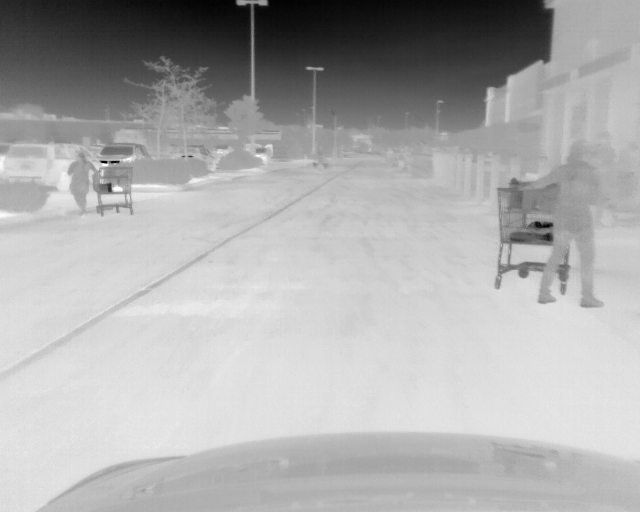car: (1, 141, 100, 191), (98, 141, 150, 169)
people: (513, 140, 607, 308), (589, 133, 622, 228), (64, 150, 95, 215)
